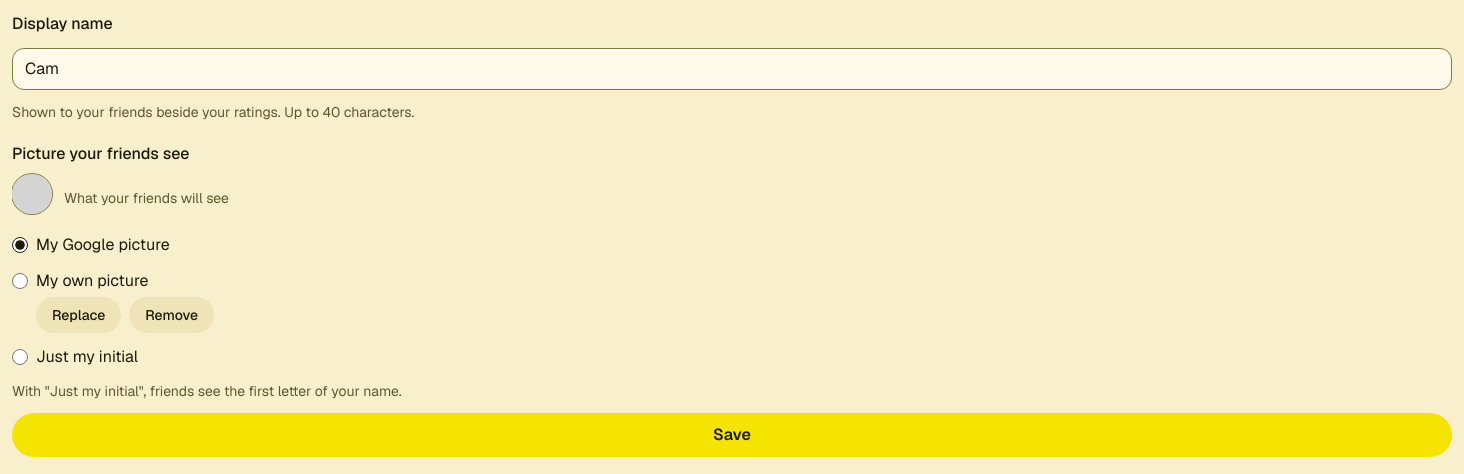
Test: DisplayNameForm: the picture choice (R79) › previews the chosen picture
The width and height of the screenshot is (1464, 474).
Click the radio button labelled "My own picture": (20, 281) [12,273,28,289]
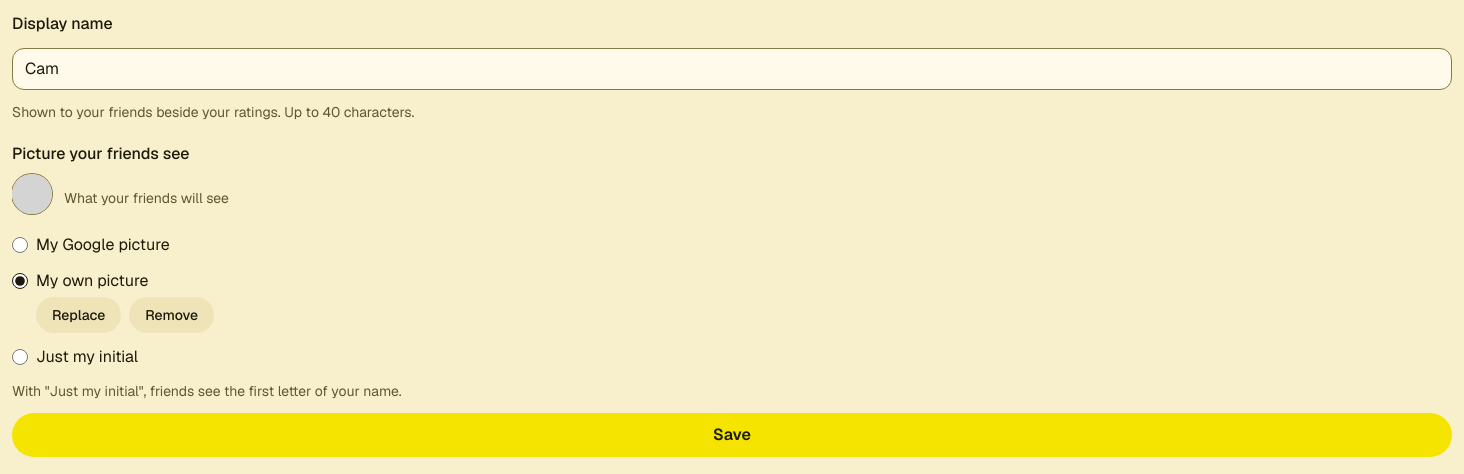
Click the radio button labelled "Just my initial": (20, 357) [12,349,28,365]
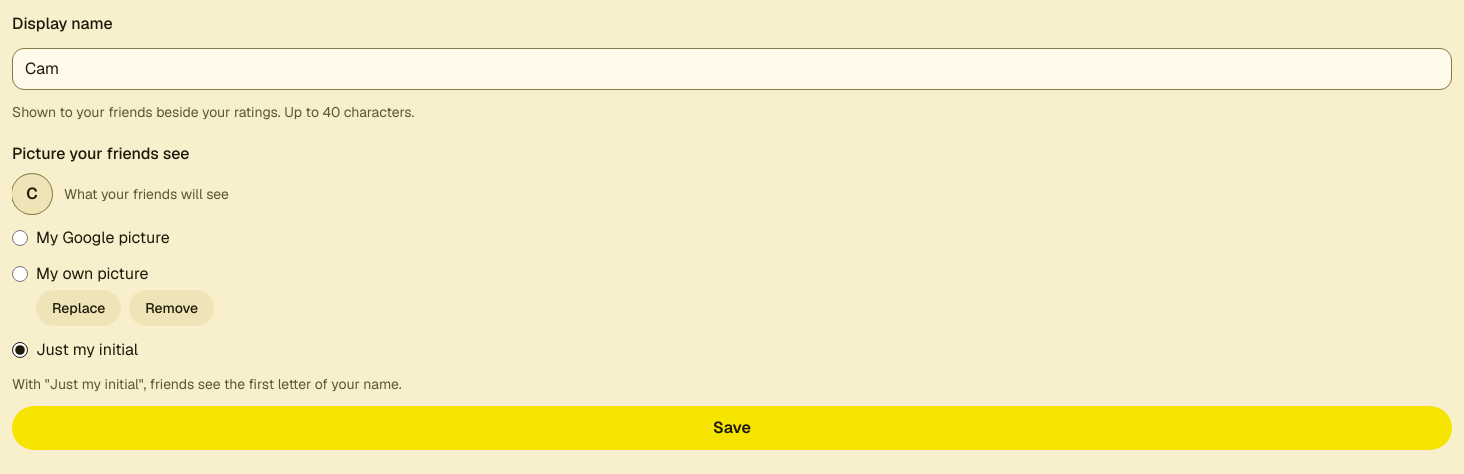
Now the picture is gone
Now the element with test id "picture-preview" reads "C", box [26,183,38,204]
